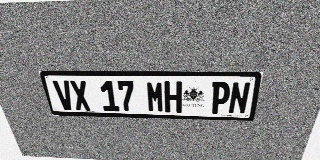1: (99, 81, 120, 111)
7: (116, 81, 136, 112)
H: (164, 81, 182, 113)
M: (146, 81, 164, 112)
N: (228, 82, 251, 114)
P: (210, 82, 231, 114)
V: (52, 80, 76, 110)
X: (69, 80, 91, 111)
